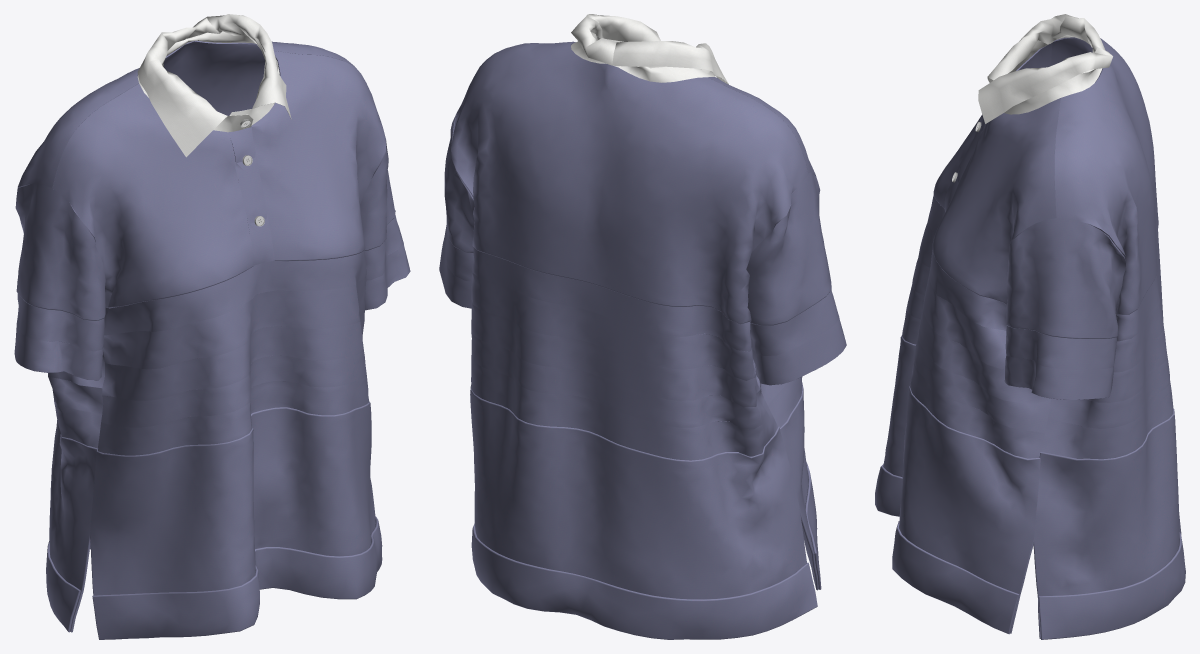
3 views of the same model, side by side, from view 1: azimuth 30°, elevation 25°; view 2: azimuth 150°, elevation 25°; view 3: azimuth 270°, elevation 25° (orthographic). The views are drawn at different scales.
Parts seen in each view (by area): view 1: Pattern2D_3346071, Pattern2D_3477746, Pattern2D_3483599, Pattern2D_614027, Pattern2D_420041, Pattern2D_3459562, Pattern2D_3424674, Pattern2D_420052, Pattern2D_420022, Pattern2D_420074, Pattern2D_420063, Pattern2D_3462828 (+13 smaller); view 2: Pattern2D_3459562, Pattern2D_3462828, Pattern2D_614552, Pattern2D_430427, Pattern2D_501064, Pattern2D_430405, Pattern2D_3424674, Pattern2D_501049, Pattern2D_430416, Pattern2D_338536, Pattern2D_322252, Pattern2D_533010 (+9 smaller); view 3: Pattern2D_3346071, Pattern2D_3462828, Pattern2D_3459562, Pattern2D_3483599, Pattern2D_3420210, Pattern2D_614027, Pattern2D_614552, Pattern2D_430427, Pattern2D_420074, Pattern2D_420063, Pattern2D_420052, Pattern2D_533716 (+12 smaller).
Part boxes in pixels (x1,y1,x2,y2): Pattern2D_3346071: (90, 402, 375, 595); Pattern2D_3477746: (52, 84, 253, 308); Pattern2D_3483599: (251, 51, 385, 261); Pattern2D_614027: (92, 516, 382, 639); Pattern2D_420041: (103, 278, 366, 369); Pattern2D_3459562: (17, 40, 358, 187); Pattern2D_3424674: (15, 183, 105, 320); Pattern2D_420052: (102, 312, 364, 400); Pattern2D_420022: (104, 250, 366, 334); Pattern2D_420074: (98, 376, 369, 455); Pattern2D_420063: (101, 351, 366, 427); Pattern2D_3462828: (49, 420, 97, 591); Pattern2D_3459562: (450, 41, 808, 324); Pattern2D_3462828: (470, 385, 806, 599); Pattern2D_614552: (471, 523, 817, 639); Pattern2D_430427: (471, 357, 777, 460); Pattern2D_501064: (471, 273, 756, 380); Pattern2D_430405: (471, 300, 760, 407); Pattern2D_3424674: (746, 172, 831, 325); Pattern2D_501049: (472, 247, 751, 351); Pattern2D_430416: (471, 331, 765, 429); Pattern2D_338536: (752, 317, 846, 385); Pattern2D_322252: (750, 290, 839, 355); Pattern2D_533010: (612, 41, 728, 84); Pattern2D_3346071: (883, 335, 1040, 594); Pattern2D_3462828: (1033, 408, 1179, 596); Pattern2D_3459562: (1051, 37, 1158, 315); Pattern2D_3483599: (932, 98, 1060, 304); Pattern2D_3420210: (1006, 218, 1125, 338); Pattern2D_614027: (875, 464, 1019, 634); Pattern2D_614552: (1038, 512, 1185, 639); Pattern2D_430427: (1041, 381, 1173, 459); Pattern2D_420074: (902, 310, 1045, 458); Pattern2D_420063: (906, 284, 1049, 432); Pattern2D_420052: (912, 258, 1050, 405); Pattern2D_533716: (978, 45, 1112, 123).
Bounding box in the file's own units: 50.72 × 69.3 × 36.28.
